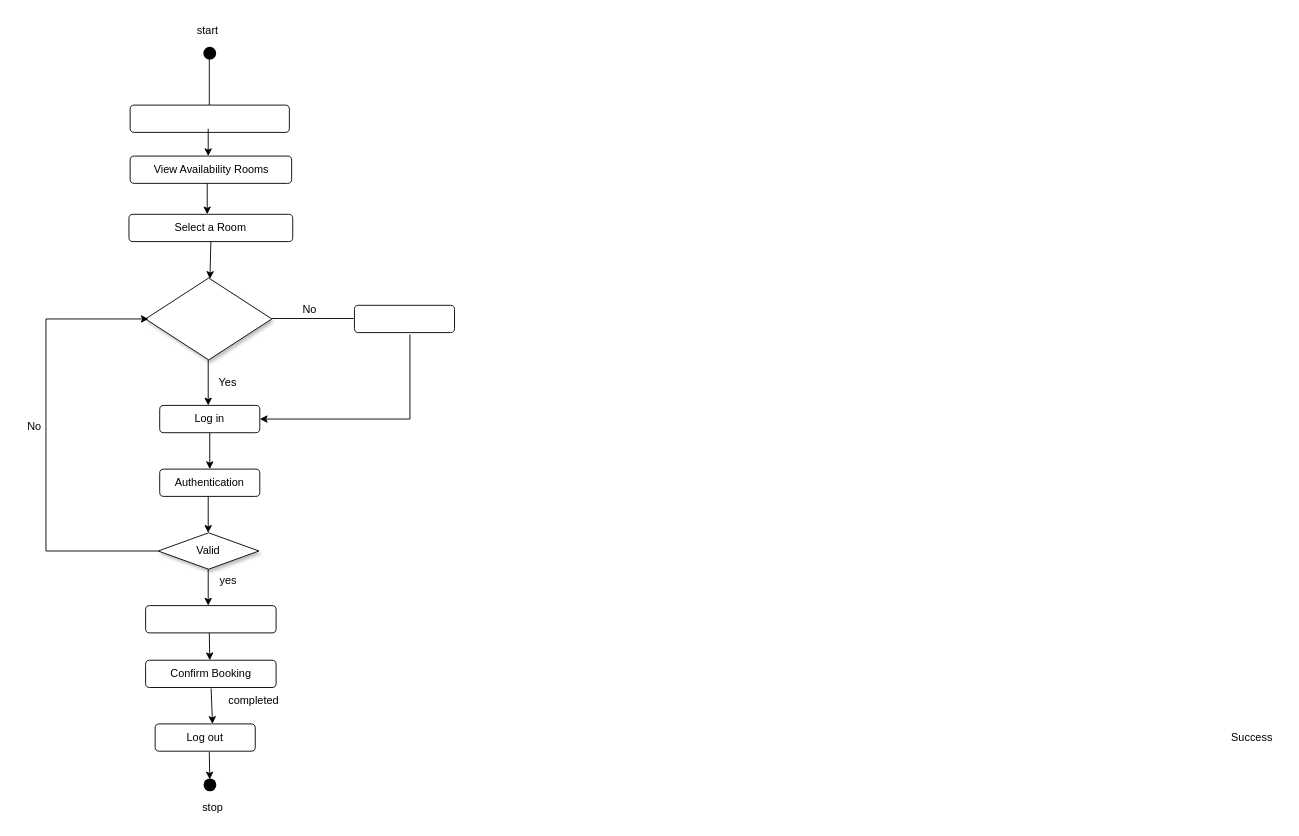
The diagram is 1299 pixels wide and 836 high, and some of its shapes have lost their labels. The centre of each missing label's shape, as x and y in pixels:
Already a customer?: (x=209, y=319)
Enter Booking Details: (x=210, y=619)
Register: (x=404, y=318)
Search for Rooms: (x=209, y=118)
